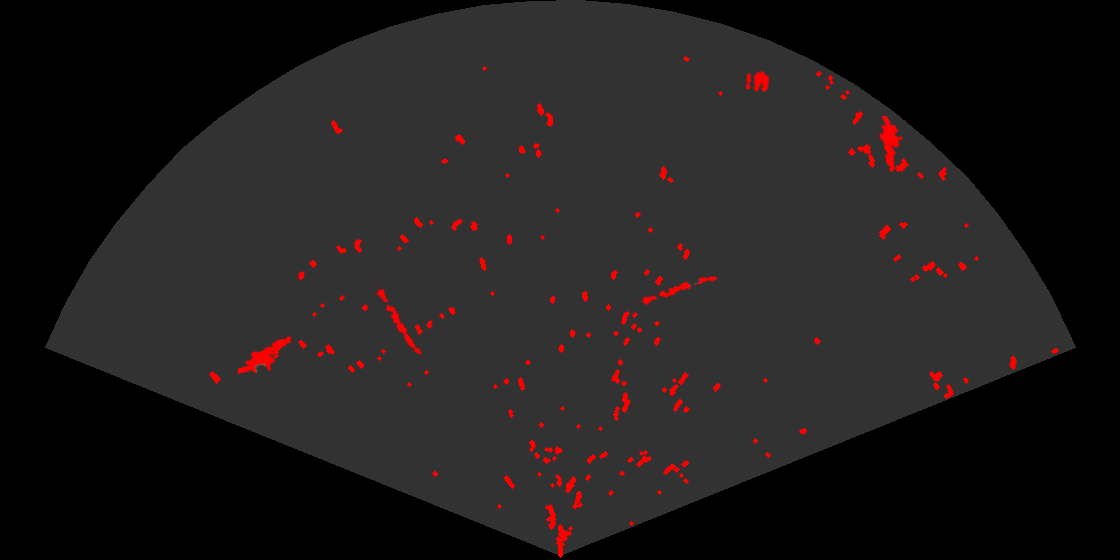ball: (744, 69, 771, 94)
chain: (373, 283, 423, 356), (636, 274, 720, 307)
frogman: (238, 335, 294, 376), (877, 116, 904, 175)
